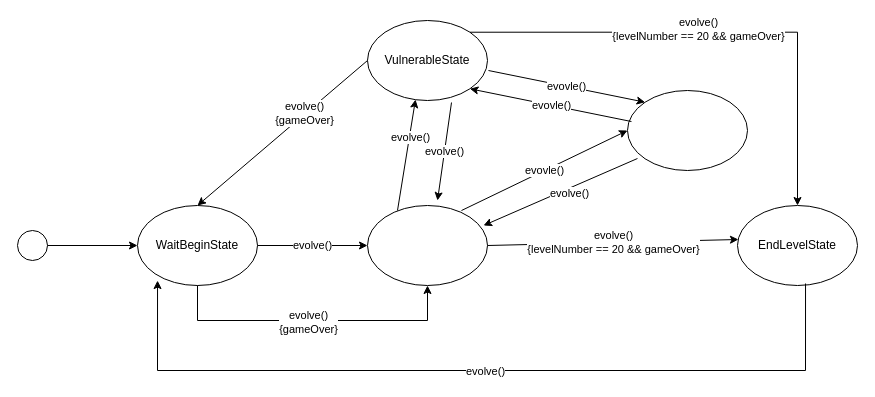
Some shapes in this 875 by 397 pixel diagram are drawn without their labels. The box of each missing label's shape, as (x1, y1, x2, y2) in pixels:
MoveState: (366, 204, 488, 286)
PauseState: (626, 90, 748, 170)
